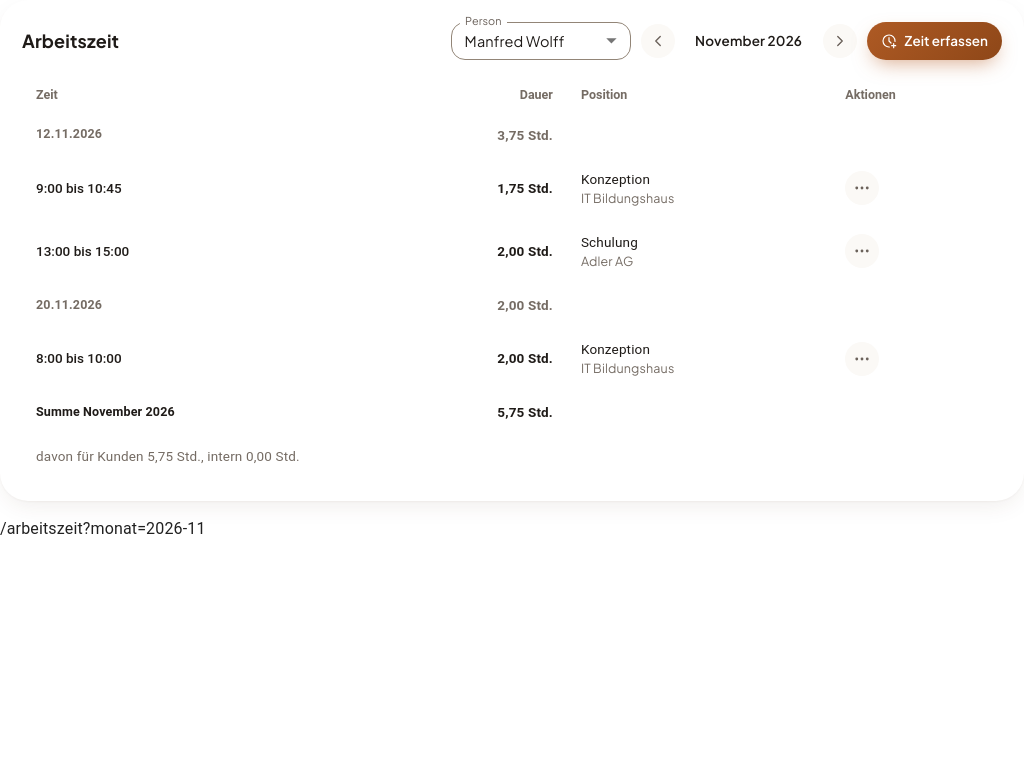
Scenario: ArbeitszeitPage — gleichzeitig loeschen (#411, Kriterium 6; Plan #415, E16, E17) › meldet ein Loeschen auf altem Stand mit Name und „Neu laden" und laedt danach die Liste
The width and height of the screenshot is (1024, 768).
Click the button named "Aktionen für 12.11.2026, 9:00 bis 10:45": [862, 188] box [845,171,879,205]
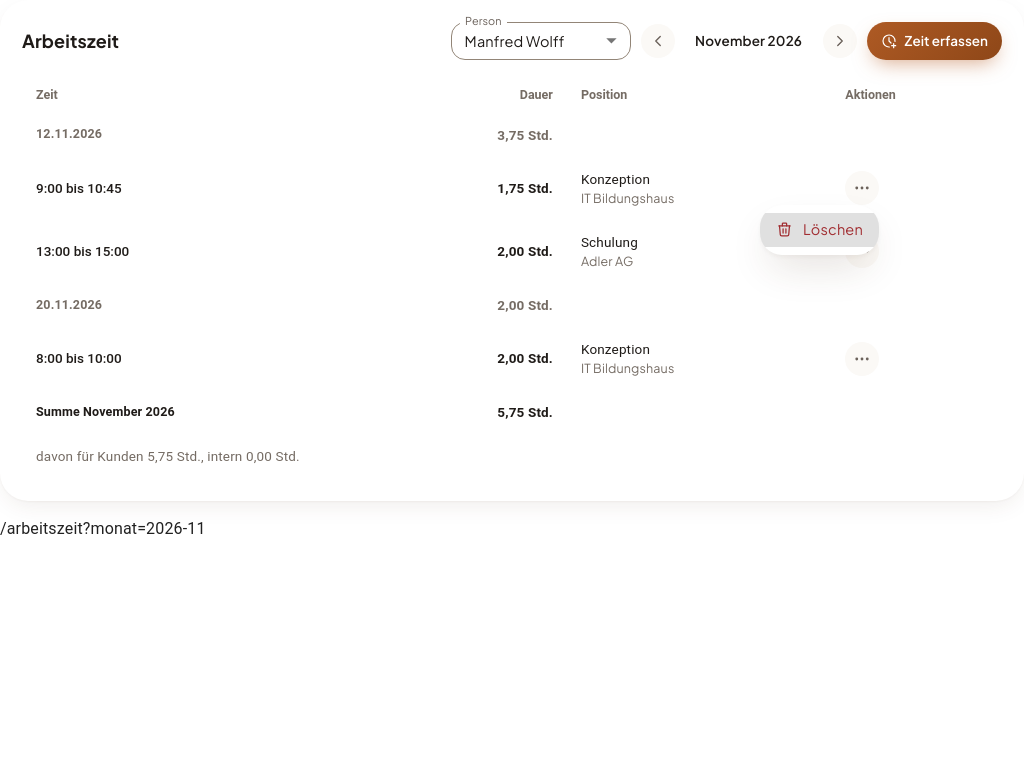
Click the menu item "Löschen": [819, 230] box [760,213,879,247]
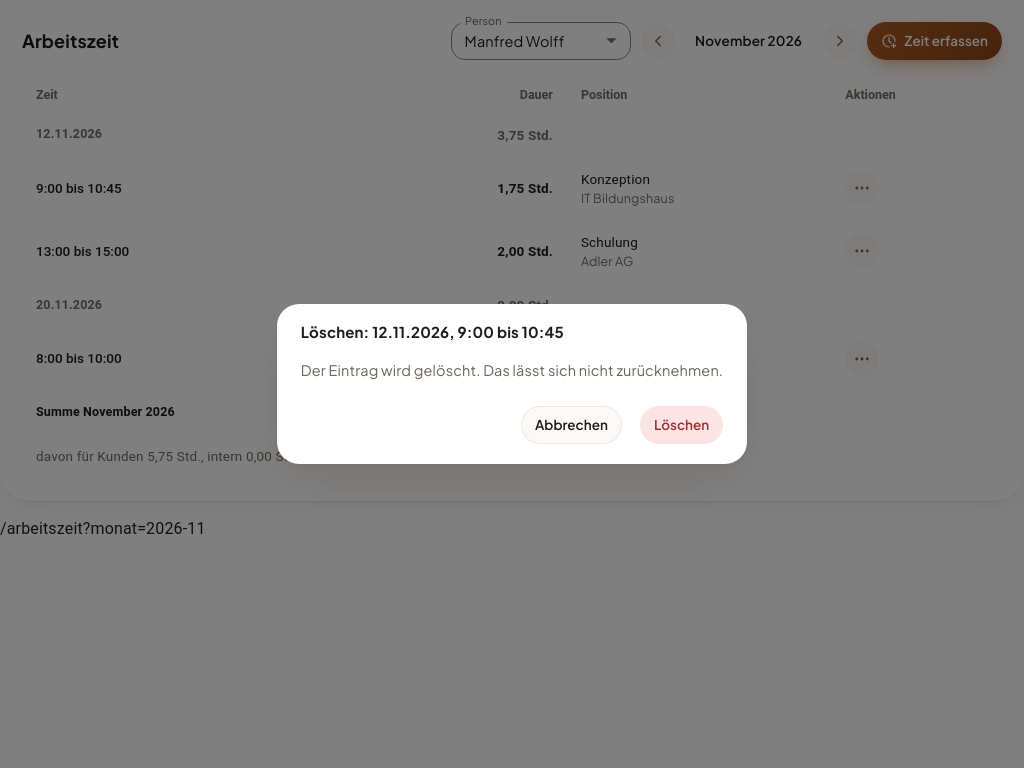
Click the button "Löschen": [682, 425] box [640,406,723,444]
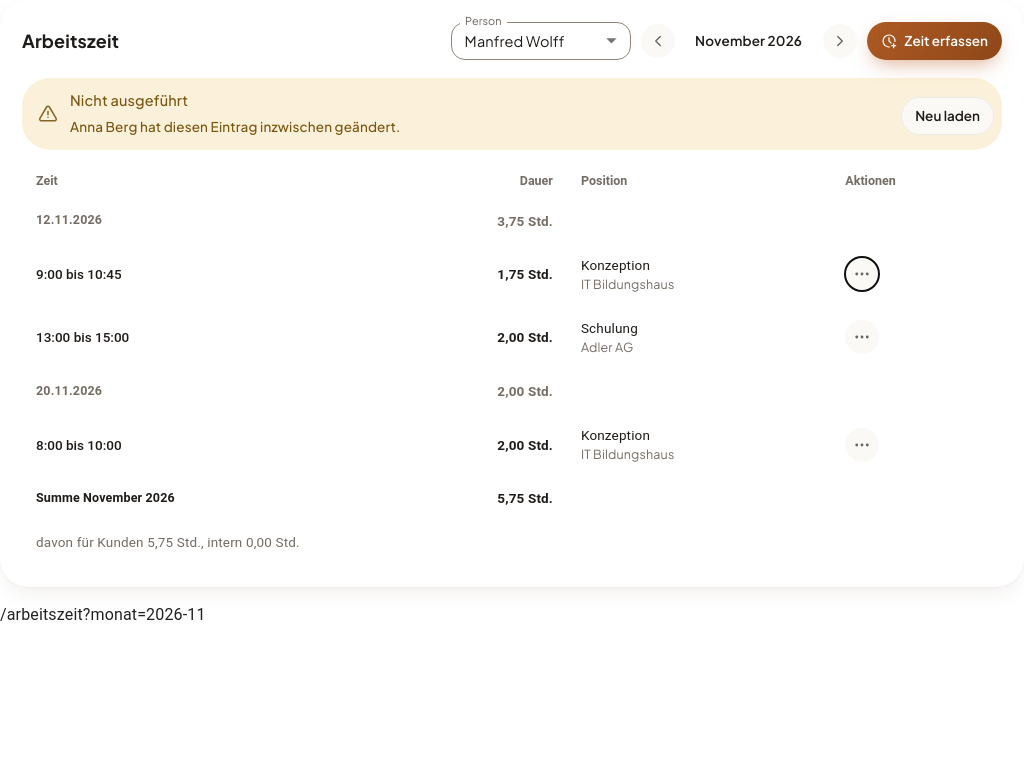
Check: the text "Nicht ausgeführt" is shown, box [70,91,188,109]
Check: the text "Anna Berg hat diesen Eintrag inzwischen geändert." is shown, box [70,118,400,135]
Click the button "Neu laden": [948, 116] box [901,97,994,135]
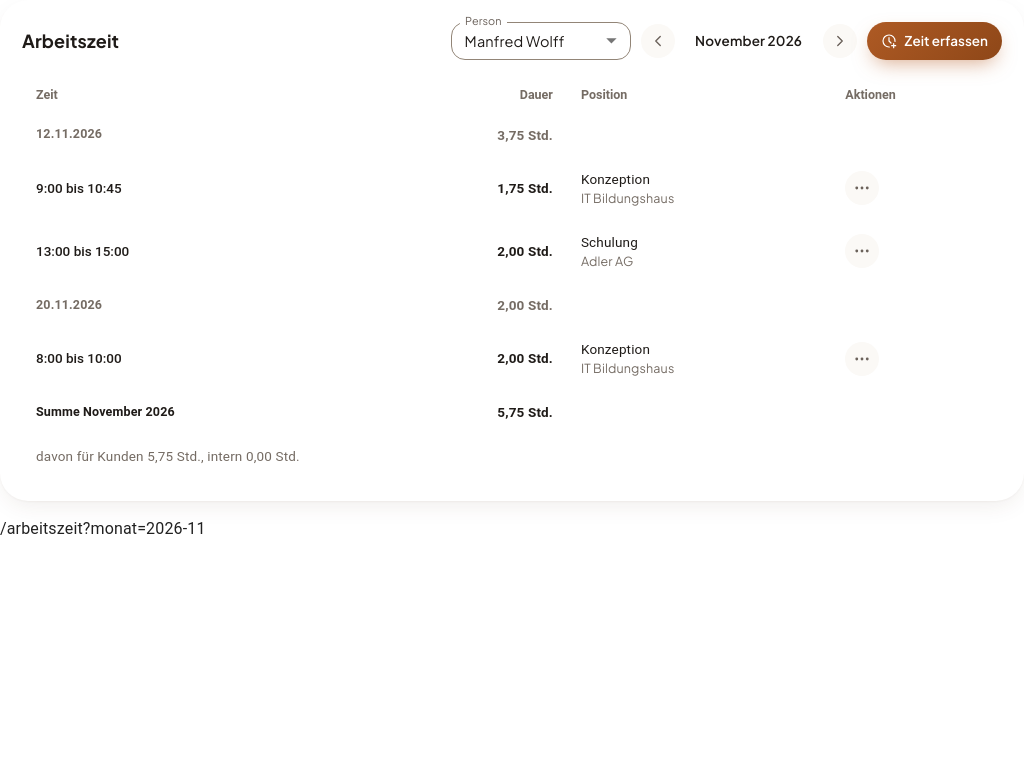
Check: the text "Nicht ausgeführt" is gone
